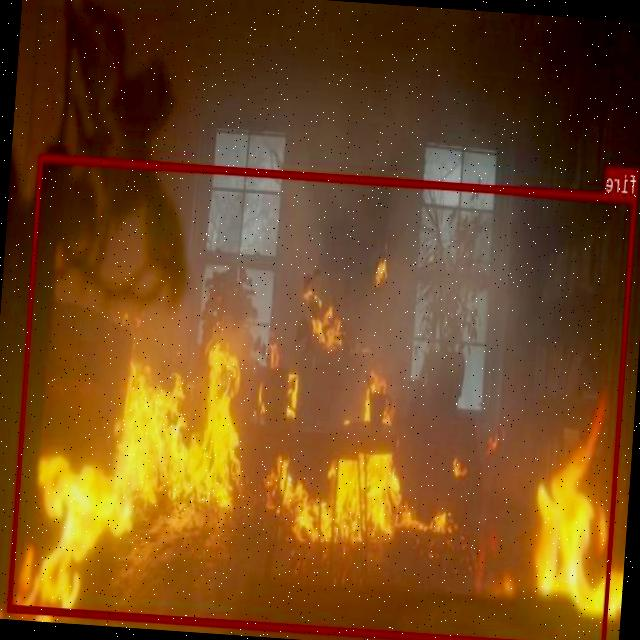fire: (8, 152, 638, 640)
